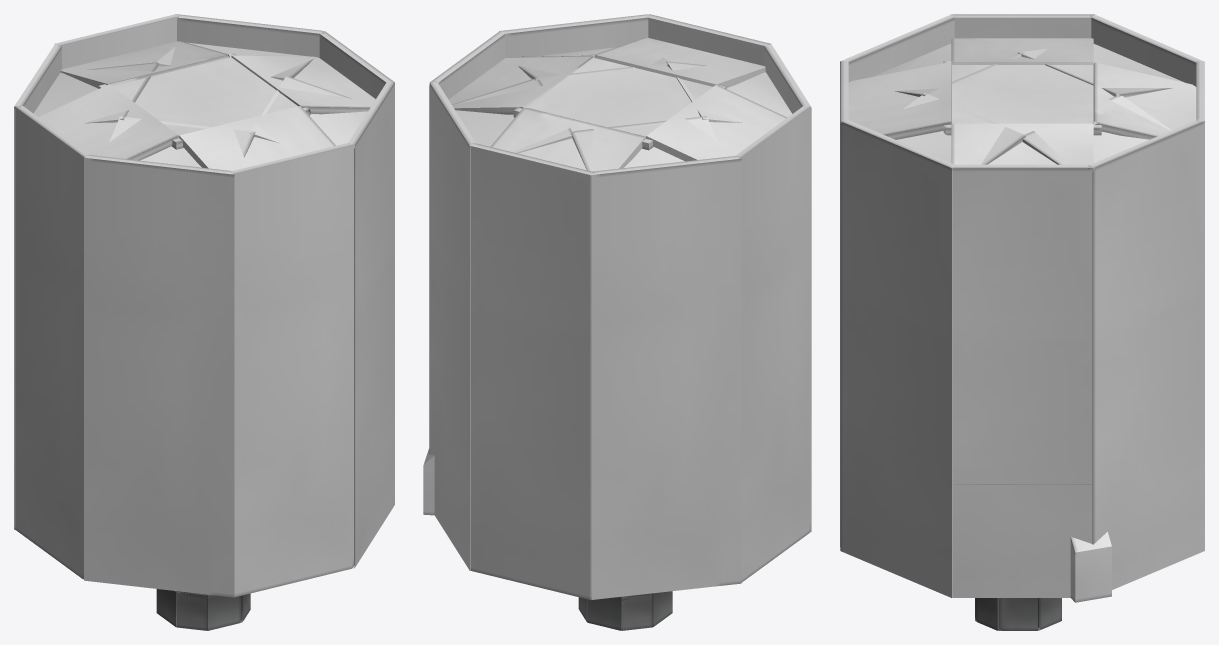
File: secondstage.obj
3 renders of one model, left to right at view 1: azimuth 30°, elevation 25°; view 2: azimuth 150°, elevation 25°; view 3: azimuth 270°, elevation 25°, orthographic.
Parts seen in each view (by area): view 1: Rocket; view 2: Rocket; view 3: Rocket.
Boxes of the visible parts, x1,y1,x2,y2 form: Rocket: (14, 14, 394, 630); Rocket: (423, 14, 811, 630); Rocket: (840, 14, 1204, 630).
Bounding box in the file's own units: 2.97 × 4.56 × 2.88.
